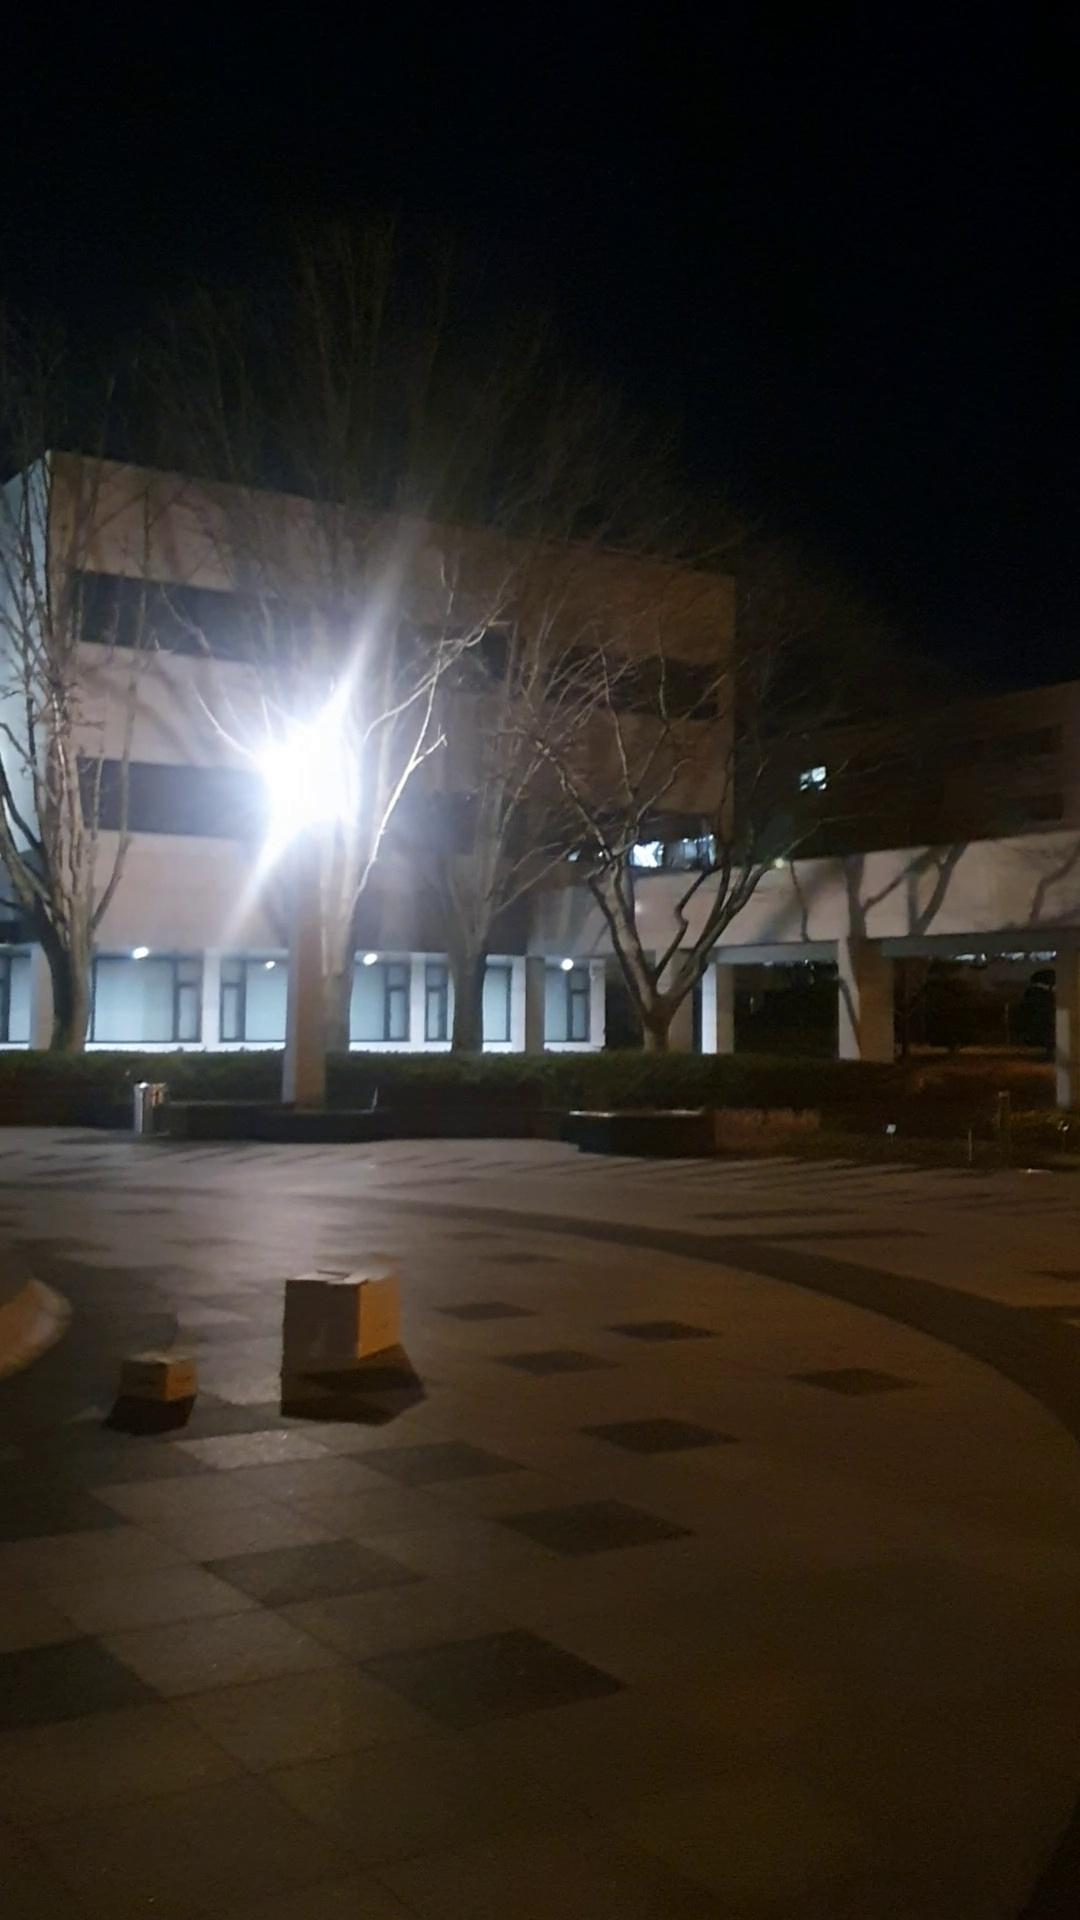Box: (268, 1253, 411, 1395), (111, 1338, 203, 1415)
